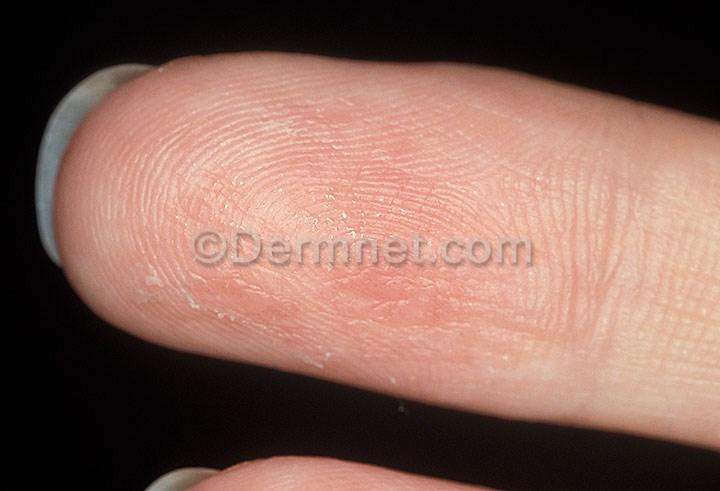Eczema: (273, 80, 478, 248), (131, 58, 279, 240), (478, 79, 631, 238), (352, 268, 519, 398), (183, 266, 349, 382), (65, 235, 182, 337), (525, 276, 639, 341)
